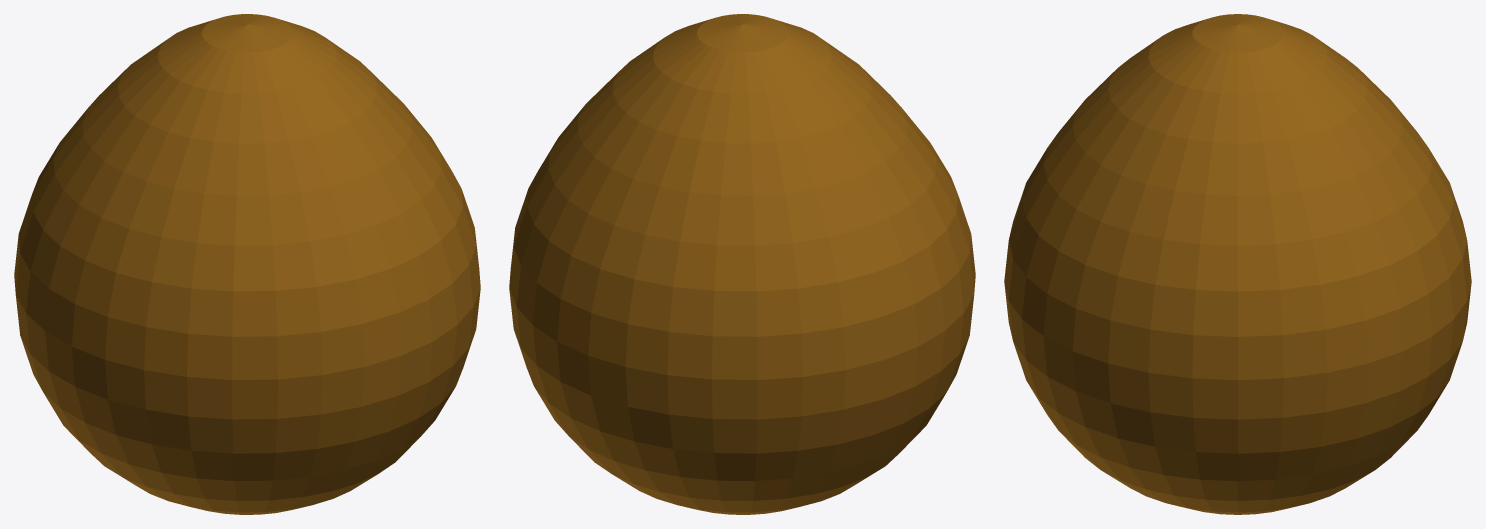
The model's file is hzl3.fbx.
3 renders of one model, left to right at view 1: azimuth 30°, elevation 25°; view 2: azimuth 150°, elevation 25°; view 3: azimuth 270°, elevation 25°, orthographic.
Parts seen in each view (by area): view 1: Sphere; view 2: Sphere; view 3: Sphere.
Boxes of the visible parts, left/top/right/bottom form: Sphere: left=14, top=14, right=480, bottom=514; Sphere: left=509, top=14, right=975, bottom=514; Sphere: left=1004, top=14, right=1471, bottom=514.
Size of the model in its own units: 72.59 by 80.29 by 72.59.
